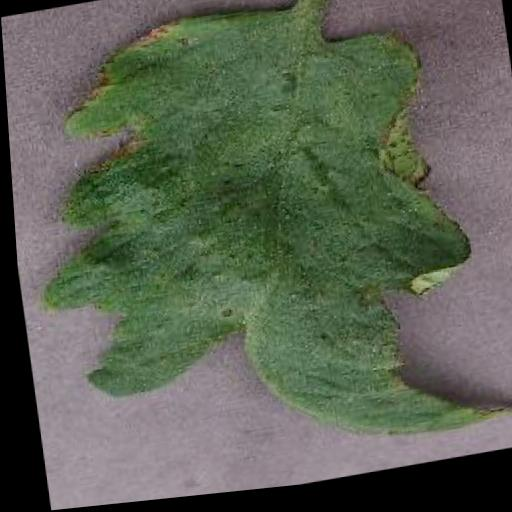Bacterial Spot: (6, 0, 512, 512)
